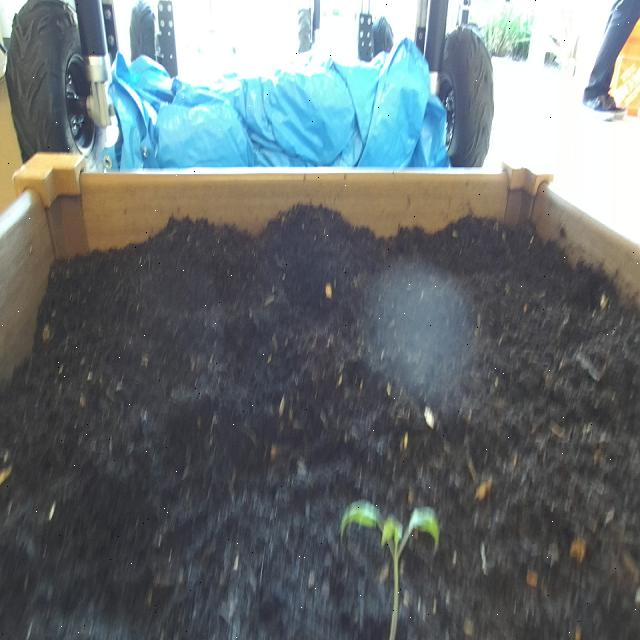Healthy: (334, 475, 445, 640)
